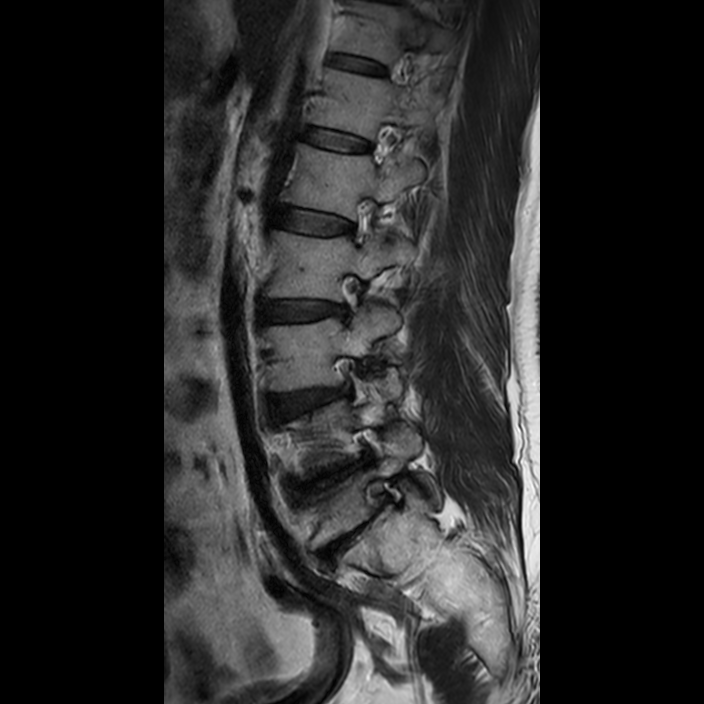RFS0: (325, 263, 375, 335), (335, 186, 386, 255)
